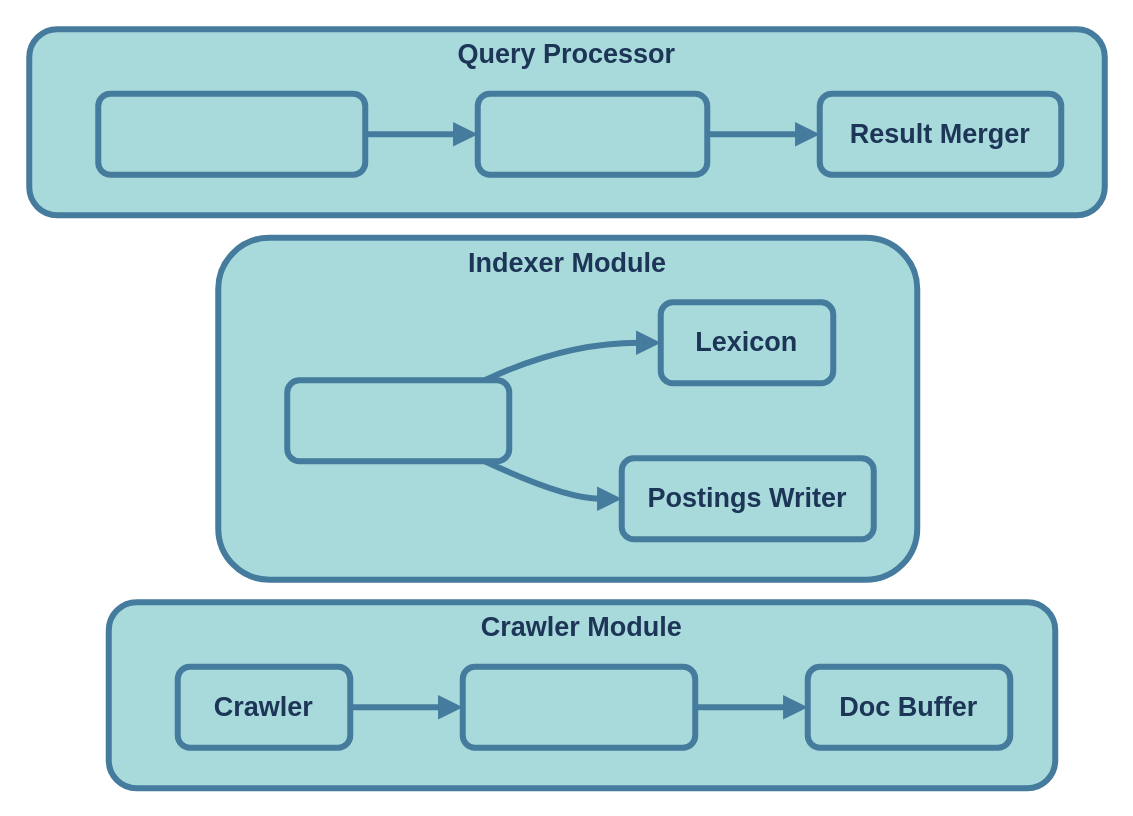
This 1133x816 diagram has some shape labels left out. Each missing label, with the centre of its shape:
"C++ Indexer" goes at (398,420).
"HTML Parser" goes at (578,706).
"Ranking Engine" goes at (592,133).
"Search Endpoint" goes at (231,133).
